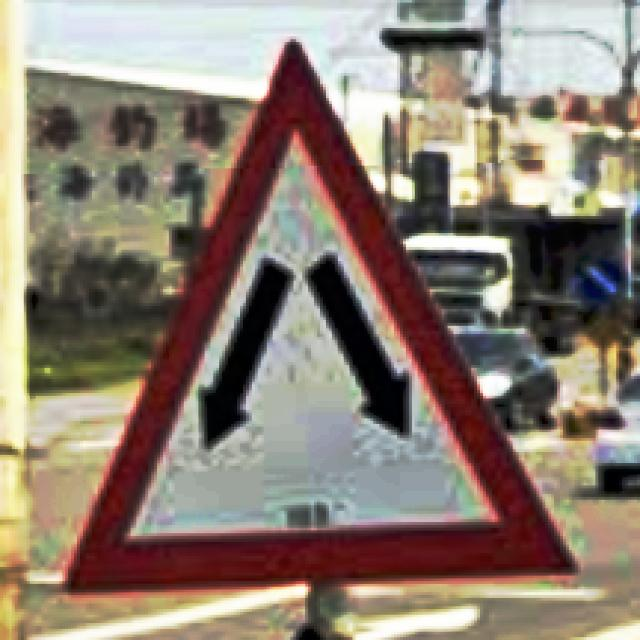diverge: (62, 39, 578, 595)
